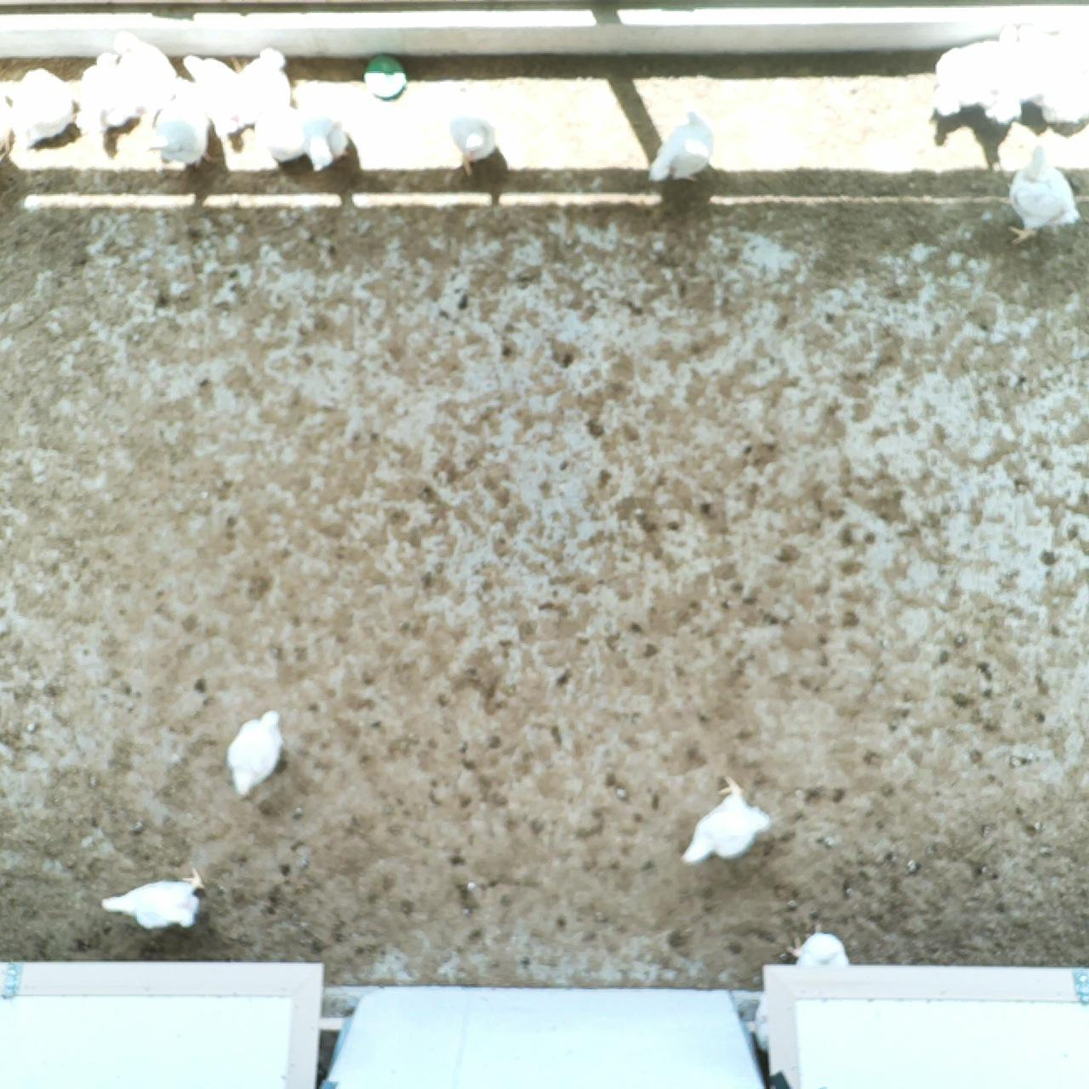chicken: (672, 771, 776, 867), (1002, 139, 1083, 250), (1017, 17, 1089, 127), (97, 864, 208, 934), (104, 30, 178, 128), (221, 704, 287, 802), (148, 74, 215, 170), (928, 31, 998, 121), (7, 62, 76, 153), (975, 16, 1029, 130), (646, 103, 718, 187), (232, 43, 297, 131), (442, 95, 505, 180), (297, 82, 354, 175), (180, 47, 244, 129), (74, 46, 130, 137), (253, 96, 310, 167), (783, 918, 854, 972), (664, 146, 681, 148)
